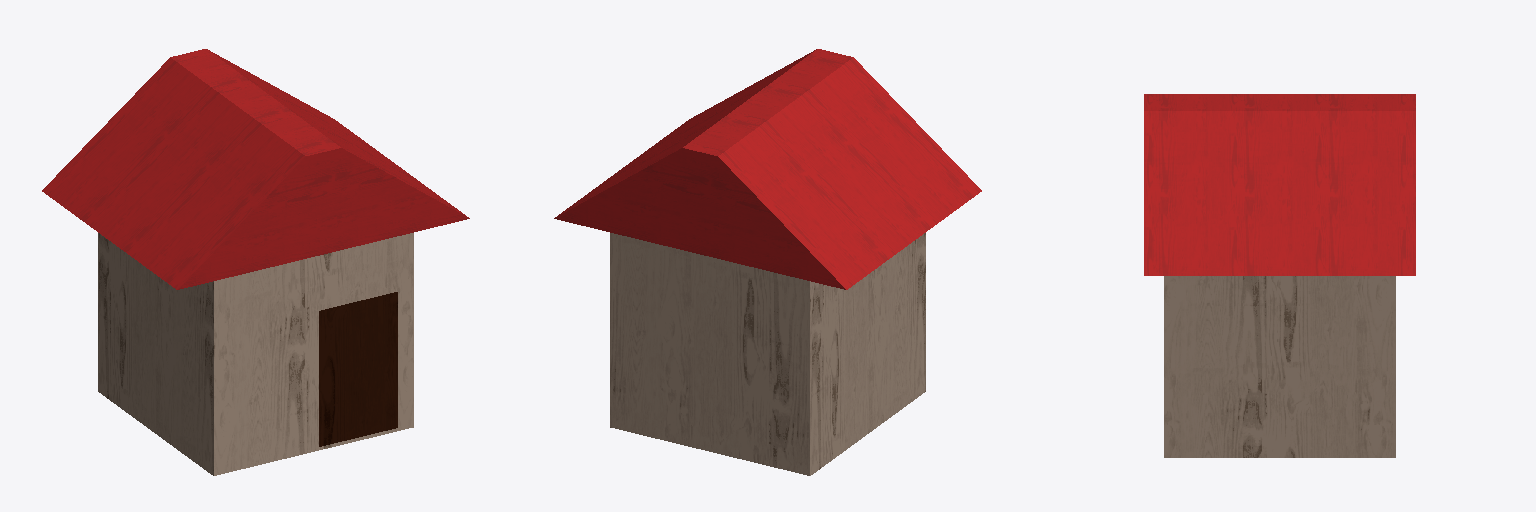
The picture shows the model from 3 angles: view 1: azimuth 30°, elevation 25°; view 2: azimuth 150°, elevation 25°; view 3: azimuth 270°, elevation 25°; orthographic projection.
Visible parts, largest first — view 1: pCube2; view 2: pCube2; view 3: pCube2.
Part boxes in pixels (left/top/right/bottom): pCube2: left=42, top=49, right=469, bottom=475; pCube2: left=554, top=49, right=981, bottom=475; pCube2: left=1144, top=94, right=1415, bottom=457.
Size of the model in its own units: 1 by 1 by 0.8008.
Materials: 1 (1 with a texture image).